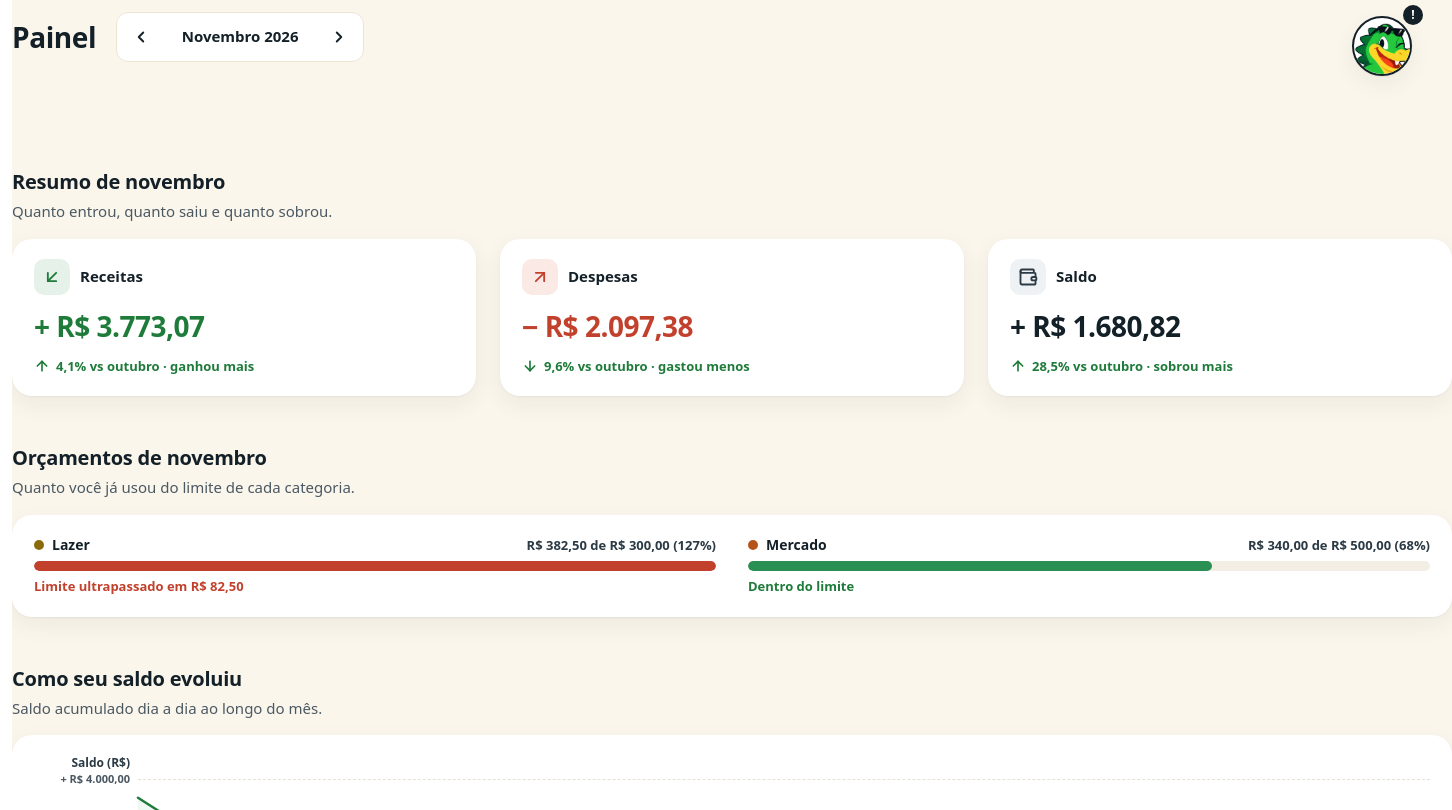
Test case: DashboardPage › desktop: dicas no botão flutuante, com a pose da primeira dica e sem cartão na página
The image size is (1452, 810).
Step 1. Click the button named "Dicas do Papo, 2 dicas" → (1382, 46), box [1352,16,1412,76]
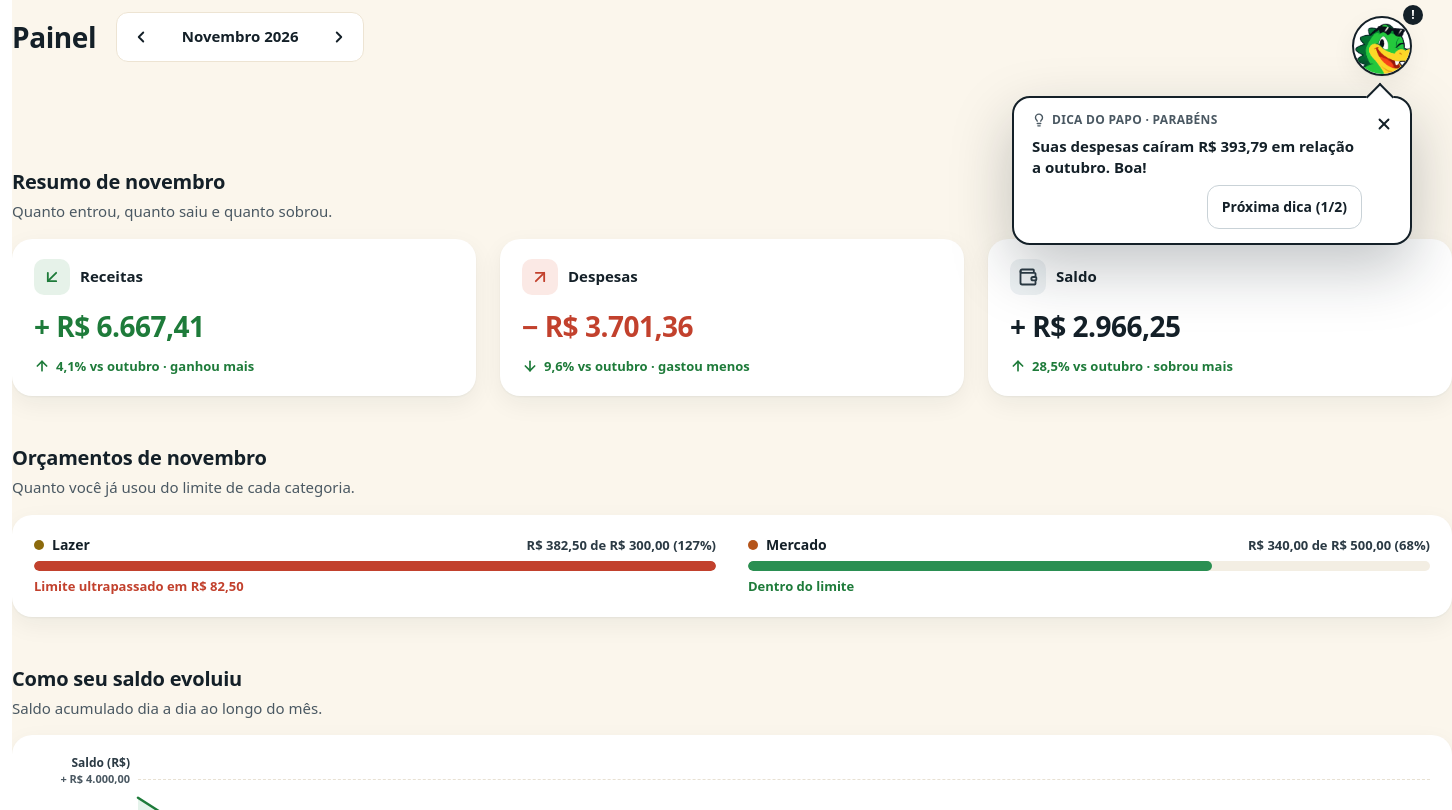
expect the element named "Dicas do Papo" shows "Suas despesas caíram": met, box [1032,136,1354,177]
Step 2. Click the button "Próxima dica (1/2)" → (1284, 207), box [1207,185,1362,229]
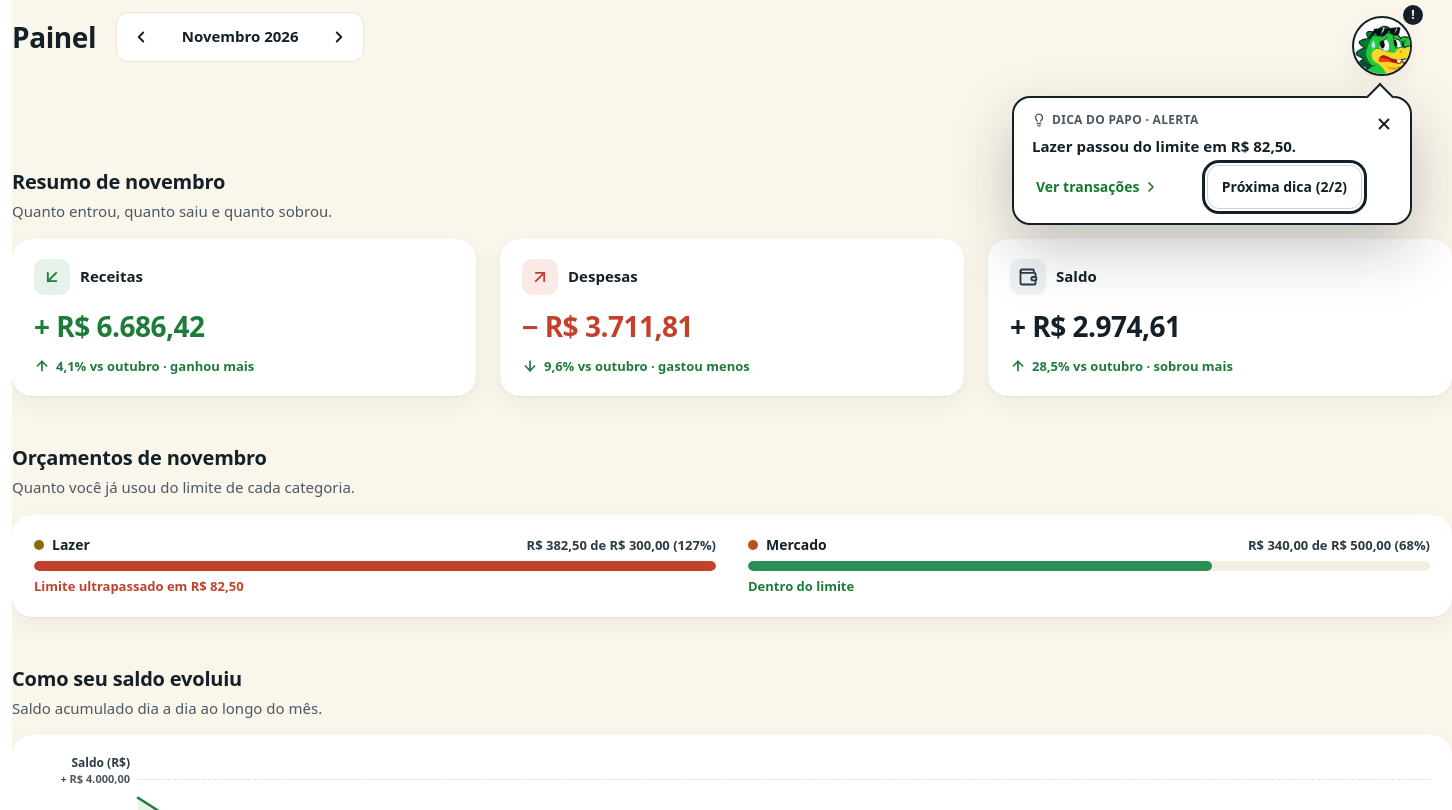
expect the element named "Dicas do Papo" shows "Lazer passou do limite": met, box [1032,136,1296,156]
